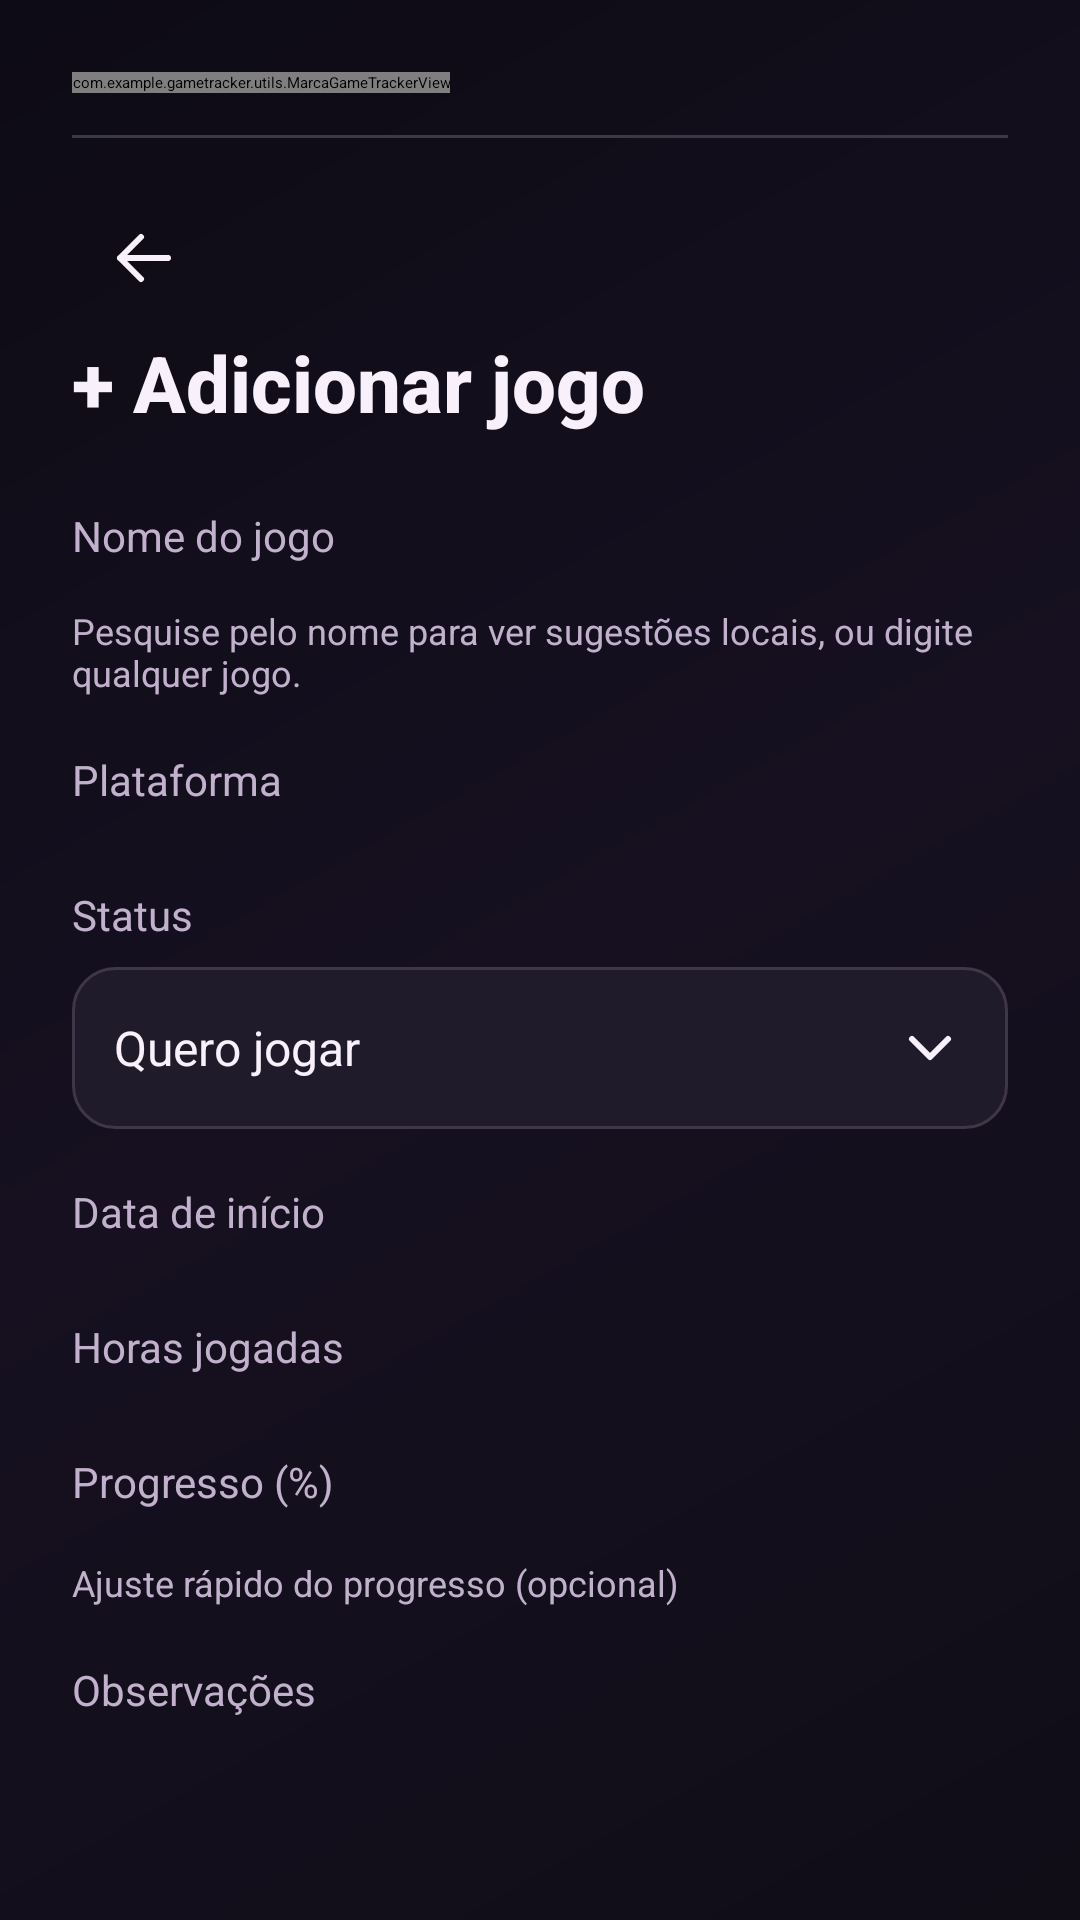

Named icons in this screenshot (1080px x 1920px) and their bounding boxes, [x1=x1, y1=y1, x2=x2, y2=y2]:
← Voltar: [x1=117, y1=234, x2=171, y2=282]
